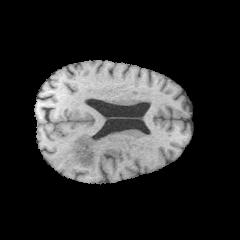glioma: (59, 132, 109, 176)
